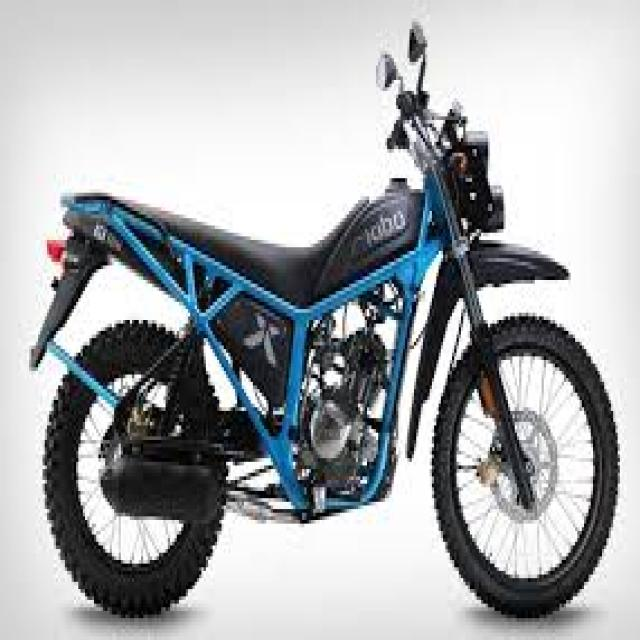bodaboda: (16, 11, 633, 628)
